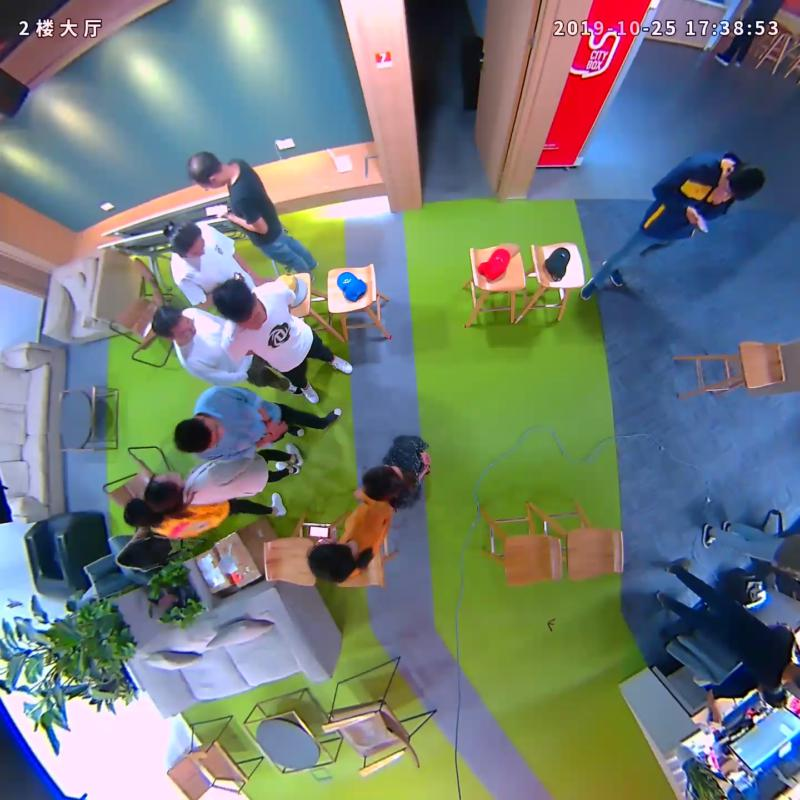head: (212, 279, 263, 328), (173, 415, 223, 454), (309, 544, 354, 585), (143, 473, 185, 513), (717, 167, 765, 202), (151, 304, 197, 339), (187, 152, 227, 190), (167, 221, 207, 259), (363, 465, 402, 502), (121, 497, 158, 529)
